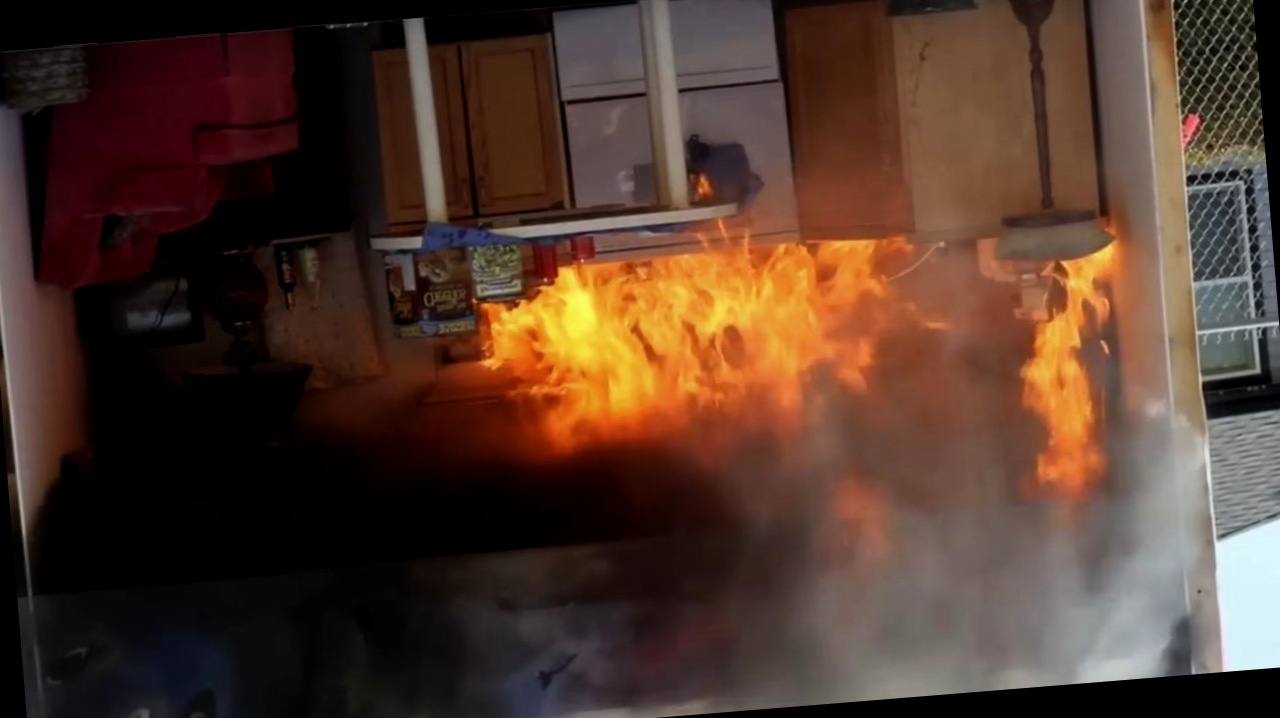fire: (484, 171, 1143, 499)
smoke: (26, 474, 1119, 718)
